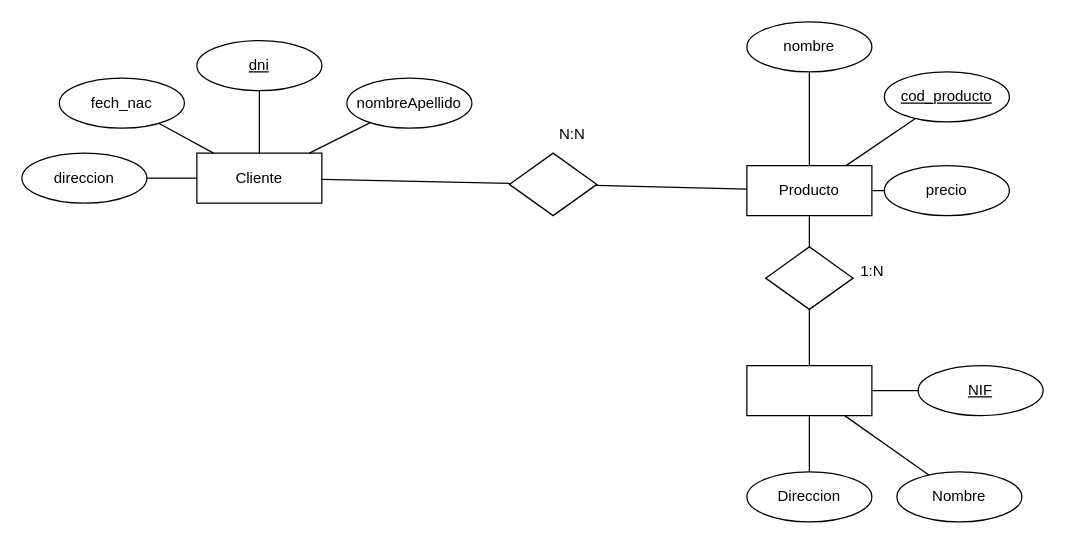
Some shapes in this 1065 by 544 pixel diagram are drawn without their labels. Here are the shapes that lost their labels. From the top down, the box of each, then its label:
(508, 152, 597, 216): Compra
(764, 246, 853, 309): Suministra
(746, 364, 872, 416): Proveedor
